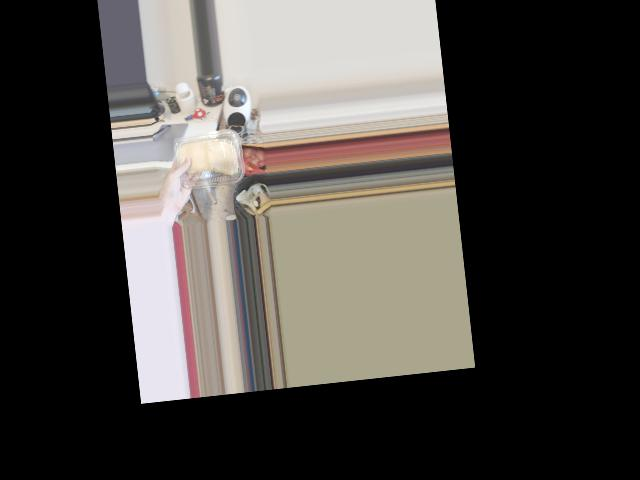cheese: (174, 123, 240, 193)
